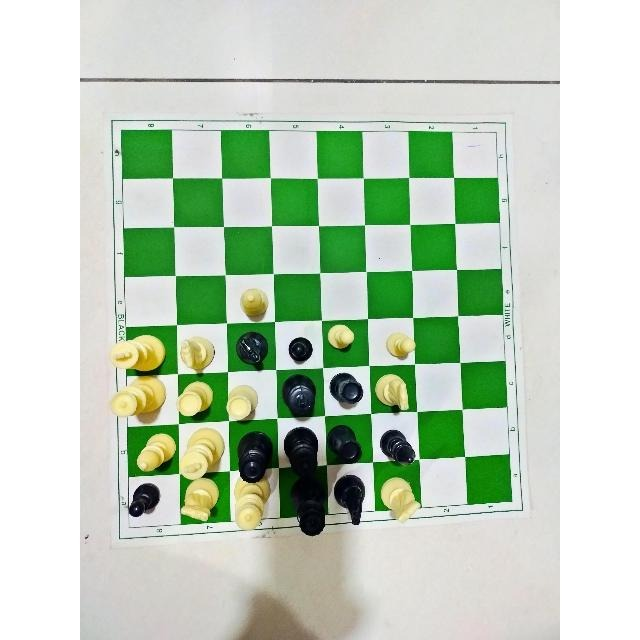black-bishop: (382, 430, 416, 467)
black-king: (283, 427, 319, 479), (285, 376, 316, 414)
black-knight: (335, 474, 367, 526), (237, 334, 267, 367)
black-pawn: (128, 482, 160, 522), (287, 335, 312, 363)
black-queen: (290, 480, 325, 537), (238, 432, 267, 483)
black-rook: (327, 426, 360, 464), (331, 372, 363, 408)
white-bishop: (135, 434, 174, 474), (238, 283, 271, 318)
white-king: (178, 425, 220, 482), (106, 333, 163, 369)
white-knight: (378, 478, 420, 522), (180, 480, 213, 527), (376, 371, 411, 411), (180, 335, 214, 372)
white-pawn: (385, 330, 415, 359), (327, 325, 357, 353)
white-queen: (108, 374, 164, 421), (233, 476, 265, 532)
white-rook: (174, 382, 209, 416), (225, 385, 256, 421)
